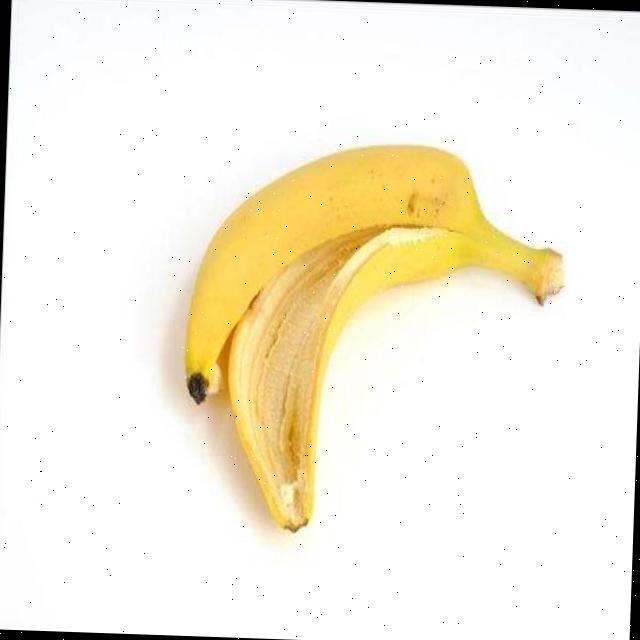banana-peel: (176, 134, 568, 540)
